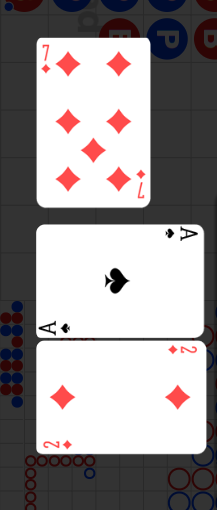2D: (42, 438, 74, 451)
7D: (40, 43, 53, 75)
AS: (162, 226, 199, 243)
